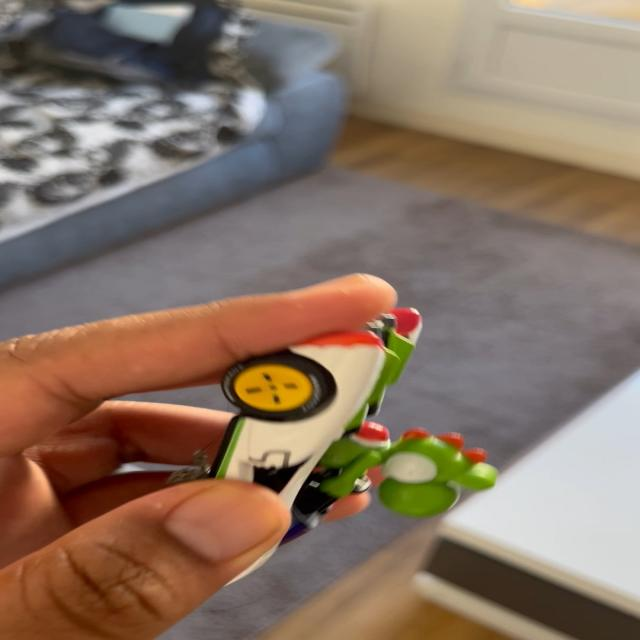yoshi: (193, 294, 527, 558)
